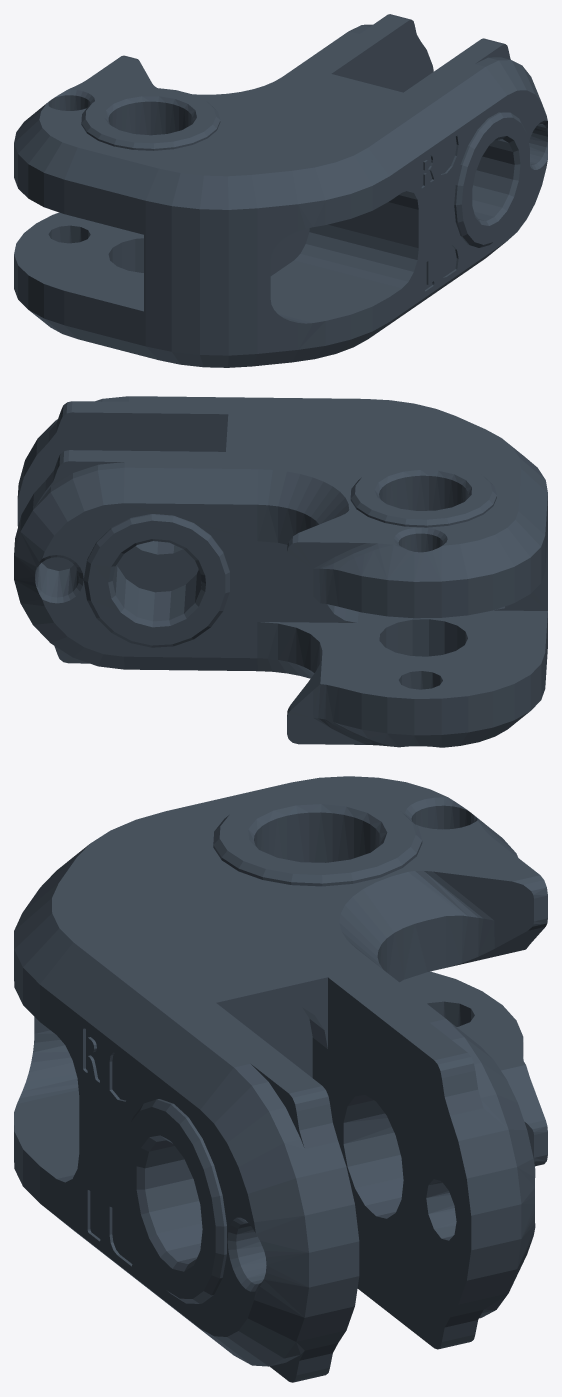
The model's file is t_cmc_yaw_link.glb.
3 views of the same model, one above another, from view 1: azimuth 30°, elevation 25°; view 2: azimuth 150°, elevation 25°; view 3: azimuth 270°, elevation 25° (orthographic). The views are drawn at different scales.
Visible parts, largest first — view 1: t_cmc_yaw; view 2: t_cmc_yaw; view 3: t_cmc_yaw.
Part boxes in pixels (x1,y1,x2,y2): t_cmc_yaw: (14,14,547,367); t_cmc_yaw: (14,396,547,747); t_cmc_yaw: (14,776,547,1382).
Bounding box in the file's own units: 0.0273 × 0.0106 × 0.0168.
